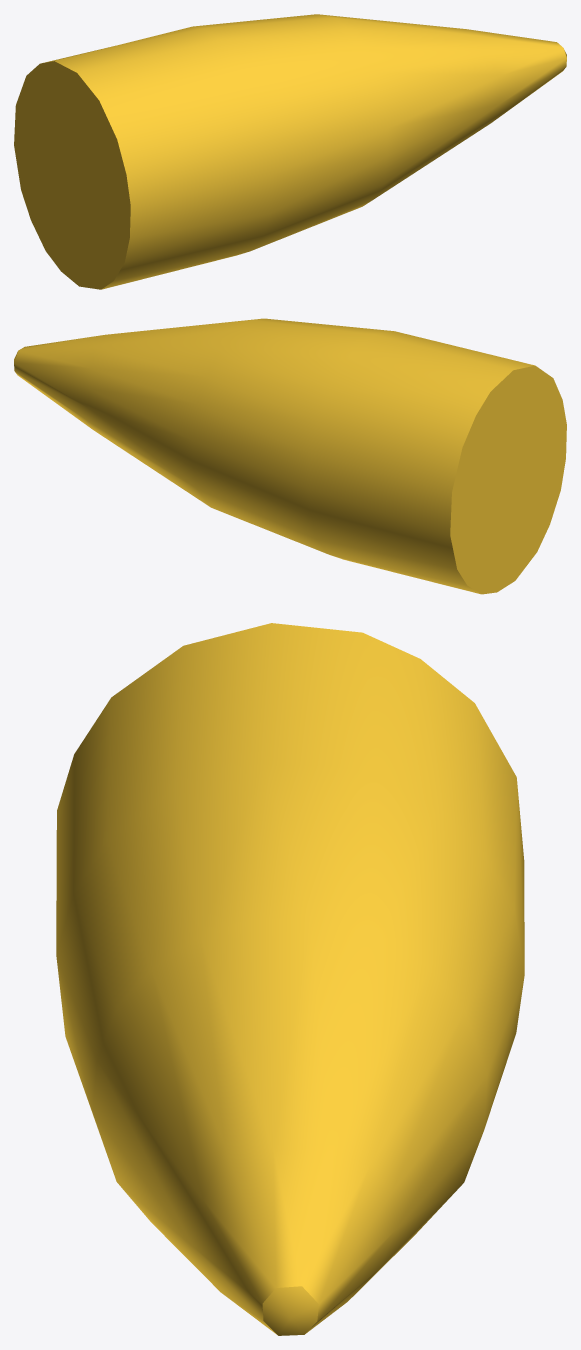
File: bala_ignitium.obj
The picture shows the model from 3 angles, top to bottom: view 1: azimuth 30°, elevation 25°; view 2: azimuth 150°, elevation 25°; view 3: azimuth 270°, elevation 25°; orthographic projection. The views are drawn at different scales.
Bounding box in the file's own units: 0.0556 × 0.0228 × 0.0228.
